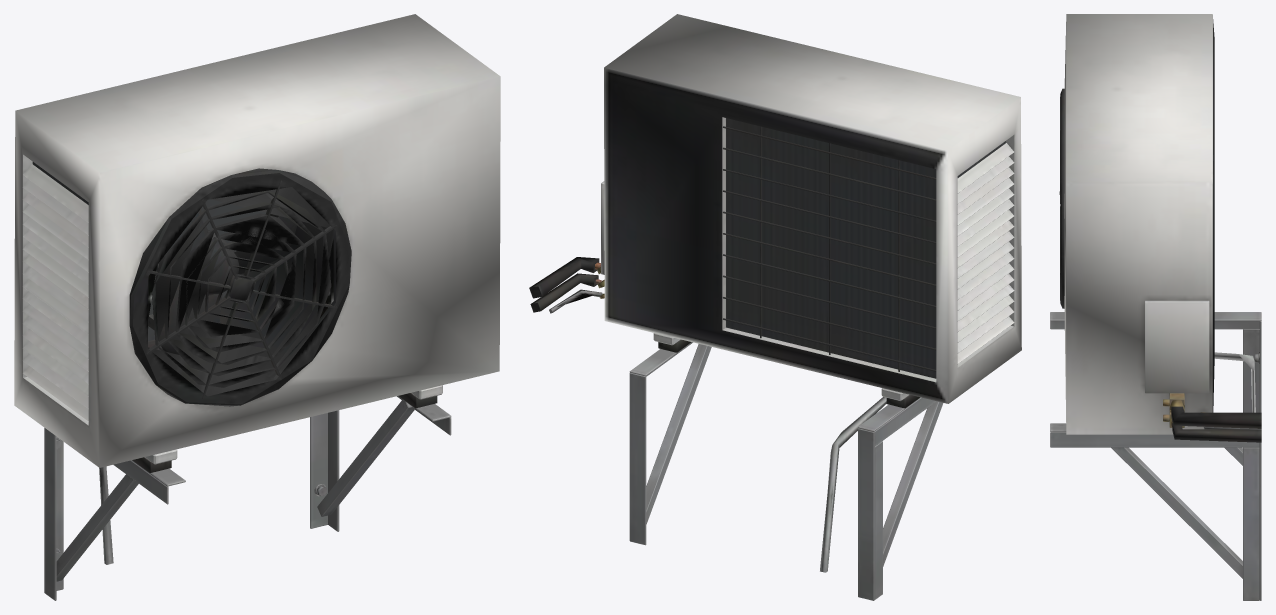
The model's file is wall-ac-unit.glb.
3 views of the same model, side by side, from view 1: azimuth 30°, elevation 25°; view 2: azimuth 150°, elevation 25°; view 3: azimuth 270°, elevation 25° (orthographic). The views are drawn at different scales.
Visible parts, largest first — view 1: wall-ac-unit_body, wall-ac-unit_fan; view 2: wall-ac-unit_body; view 3: wall-ac-unit_body.
Boxes of the visible parts, box(x1,y1,x2,y2) form: wall-ac-unit_body: box(14, 14, 500, 600); wall-ac-unit_fan: box(158, 212, 296, 354); wall-ac-unit_body: box(529, 14, 1021, 600); wall-ac-unit_body: box(1050, 14, 1261, 600).
Size of the model in its own units: 0.9717 by 1.04 by 0.45.
2 materials, 2 textured.
